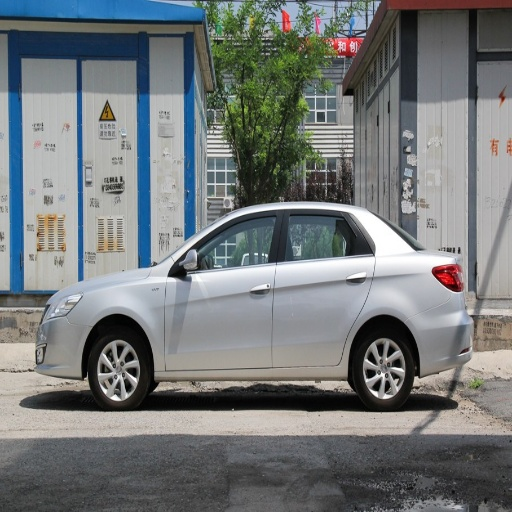back_left_door: (272, 209, 375, 366)
front_left_door: (166, 210, 283, 368)
